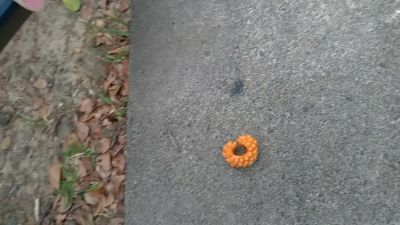eggs: (221, 132, 261, 169)
